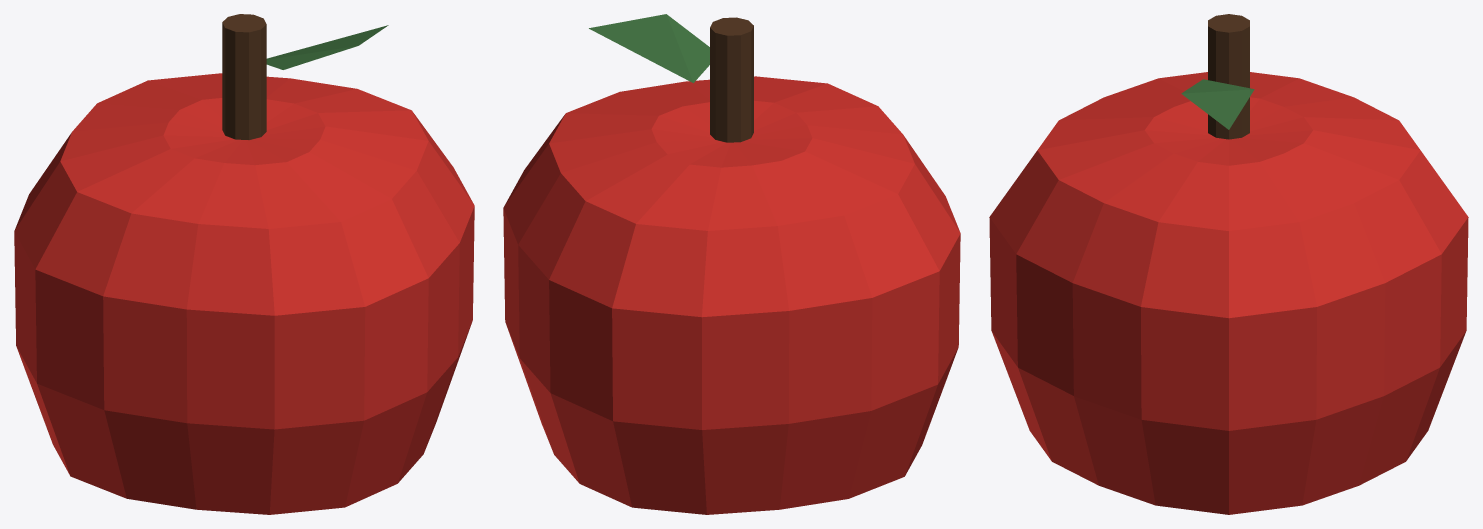
The model's file is APPLE_RUBY_HANDOFF_1_3.obj.
3 renders of one model, left to right at view 1: azimuth 30°, elevation 25°; view 2: azimuth 150°, elevation 25°; view 3: azimuth 270°, elevation 25°, orthographic.
Visible parts, largest first — view 1: ART003_PROP; view 2: ART003_PROP; view 3: ART003_PROP.
Part boxes in pixels (bbox=[...]): ART003_PROP: bbox=[14, 14, 474, 514]; ART003_PROP: bbox=[503, 14, 960, 514]; ART003_PROP: bbox=[989, 14, 1468, 514].
Size of the model in its own units: 1.3 by 1.32 by 1.3.
